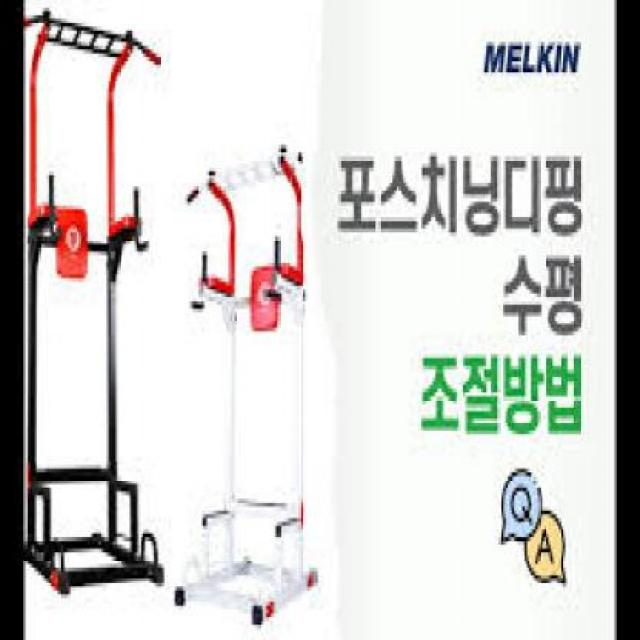chinning dipping: (25, 8, 166, 597), (174, 140, 318, 625)
